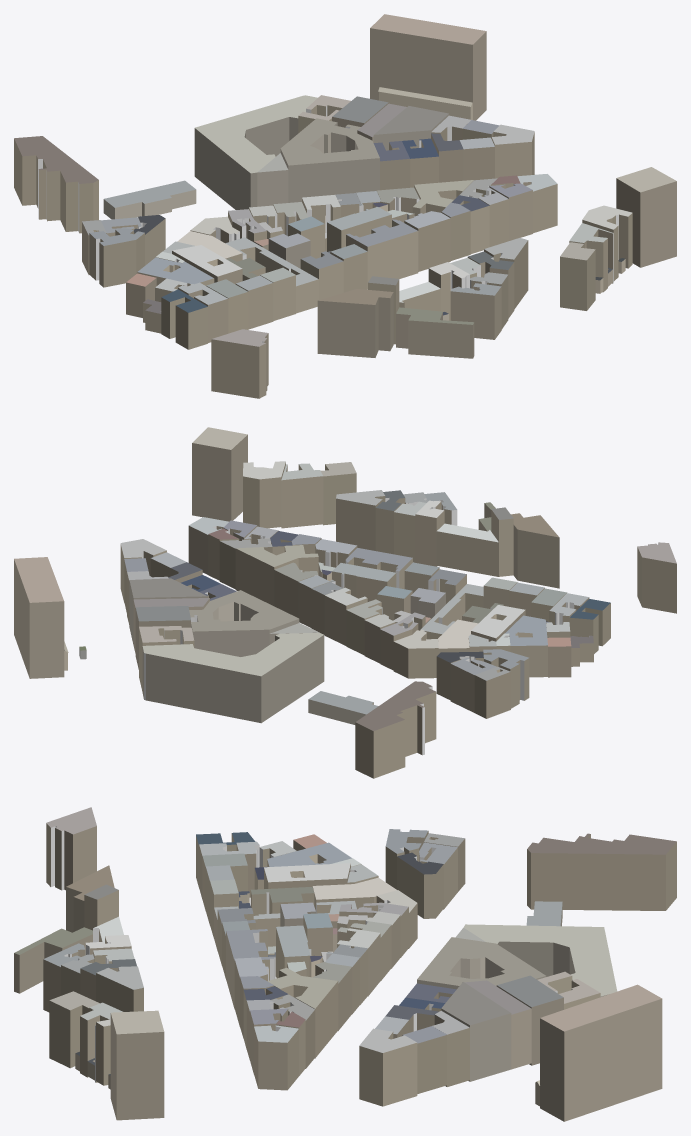
3 renders of one model, top to bottom at view 1: azimuth 30°, elevation 25°; view 2: azimuth 150°, elevation 25°; view 3: azimuth 270°, elevation 25°, orthographic. The views are drawn at different scales.
Parts seen in each view (by area): view 1: tuile; view 2: tuile; view 3: tuile.
Boxes of the visible parts, x1,y1,x2,y2 form: tuile: [14, 14, 676, 398]; tuile: [14, 427, 676, 778]; tuile: [14, 807, 676, 1121].
Bounding box in the file's own units: 269 × 48.64 × 280.
